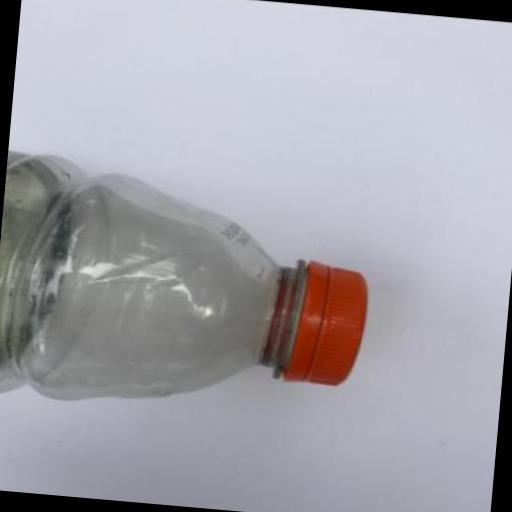plastic: (0, 148, 377, 424), (260, 256, 369, 386)
